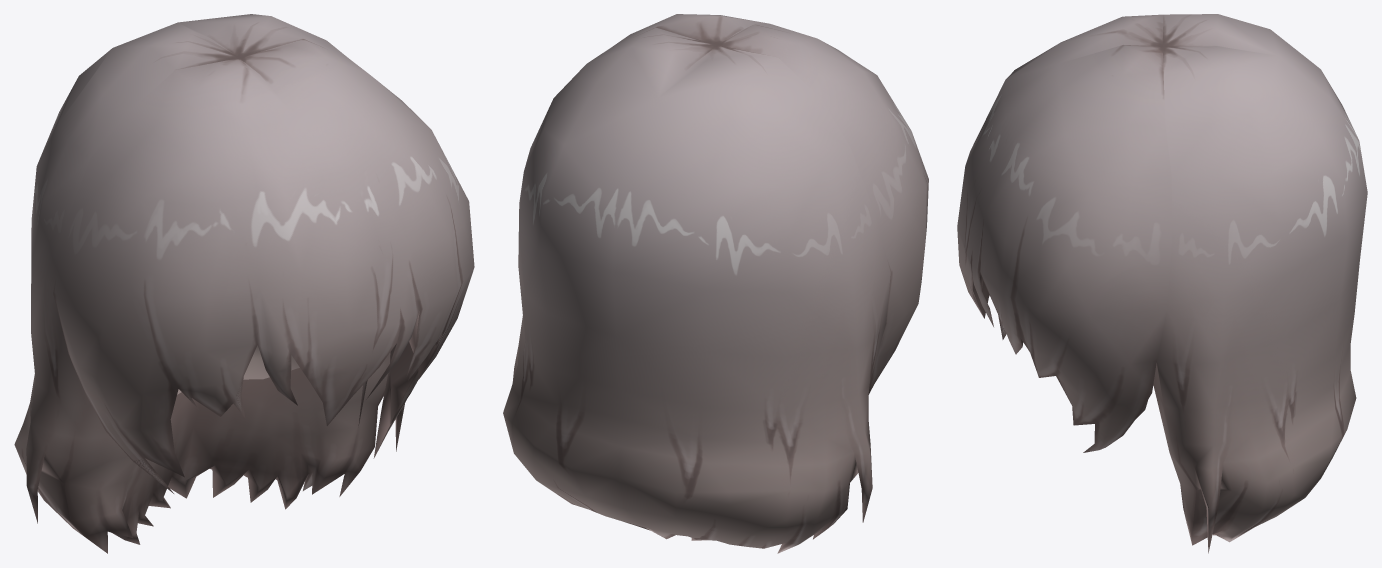
Rendered from hair_m_10.fbx.
3 renders of one model, left to right at view 1: azimuth 30°, elevation 25°; view 2: azimuth 150°, elevation 25°; view 3: azimuth 270°, elevation 25°, orthographic. The views are drawn at different scales.
Parts seen in each view (by area): view 1: hair_m_10; view 2: hair_m_10; view 3: hair_m_10.
Part boxes in pixels (x1,y1,x2,y2): hair_m_10: (14,14,474,553); hair_m_10: (503,14,928,553); hair_m_10: (957,14,1367,553).
Size of the model in its own units: 30.33 by 38.13 by 30.46.
